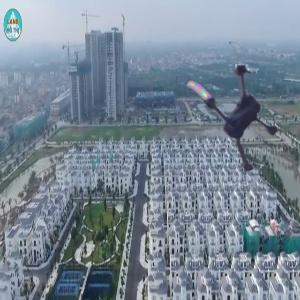drone: (167, 44, 299, 176)
